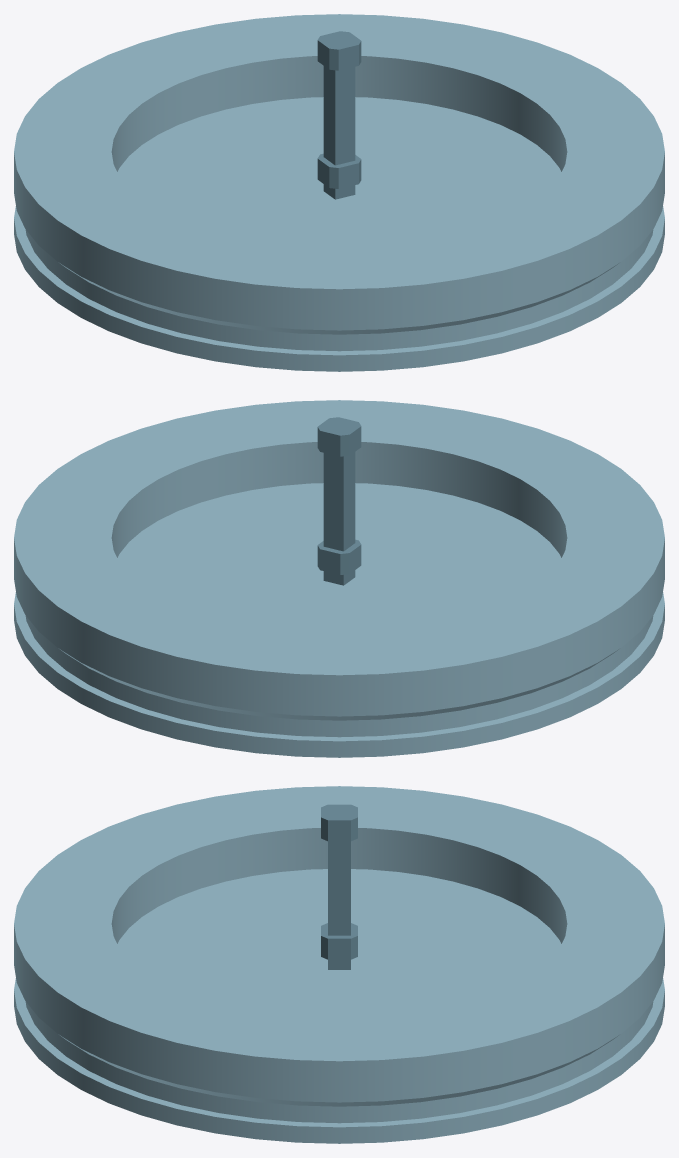
The model's file is radar.glb.
3 views of the same model, one above another, from view 1: azimuth 30°, elevation 25°; view 2: azimuth 150°, elevation 25°; view 3: azimuth 270°, elevation 25° (orthographic).
Size of the model in its own units: 14 by 5 by 14.
